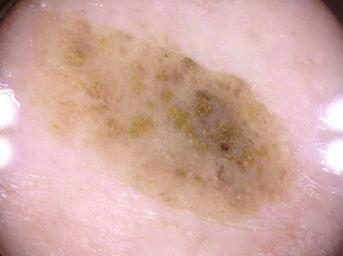seborrheic keratosis: (38, 8, 307, 231)
